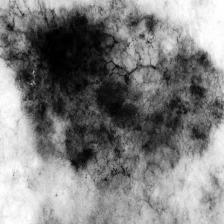Benign Marking or Mole: (14, 6, 211, 183)
